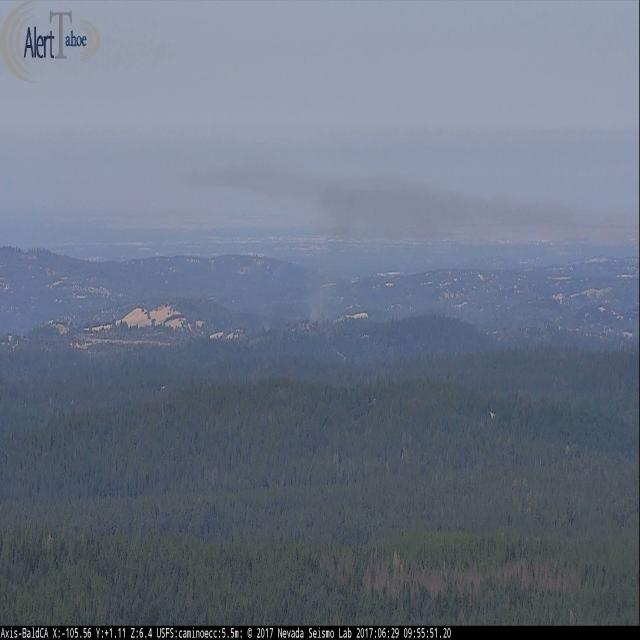smoke: (308, 281, 325, 326)
